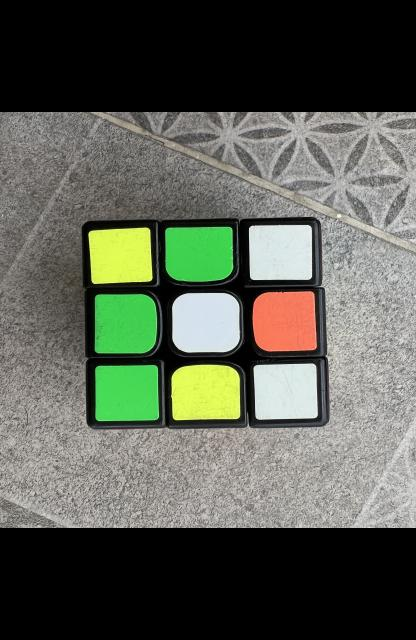Green: (164, 227, 233, 282), (94, 294, 157, 354), (94, 366, 158, 421)
Orange: (252, 291, 316, 351)
White: (170, 293, 239, 352), (253, 363, 317, 420), (247, 225, 312, 280)
Yellow: (170, 364, 239, 421), (87, 228, 152, 284)
